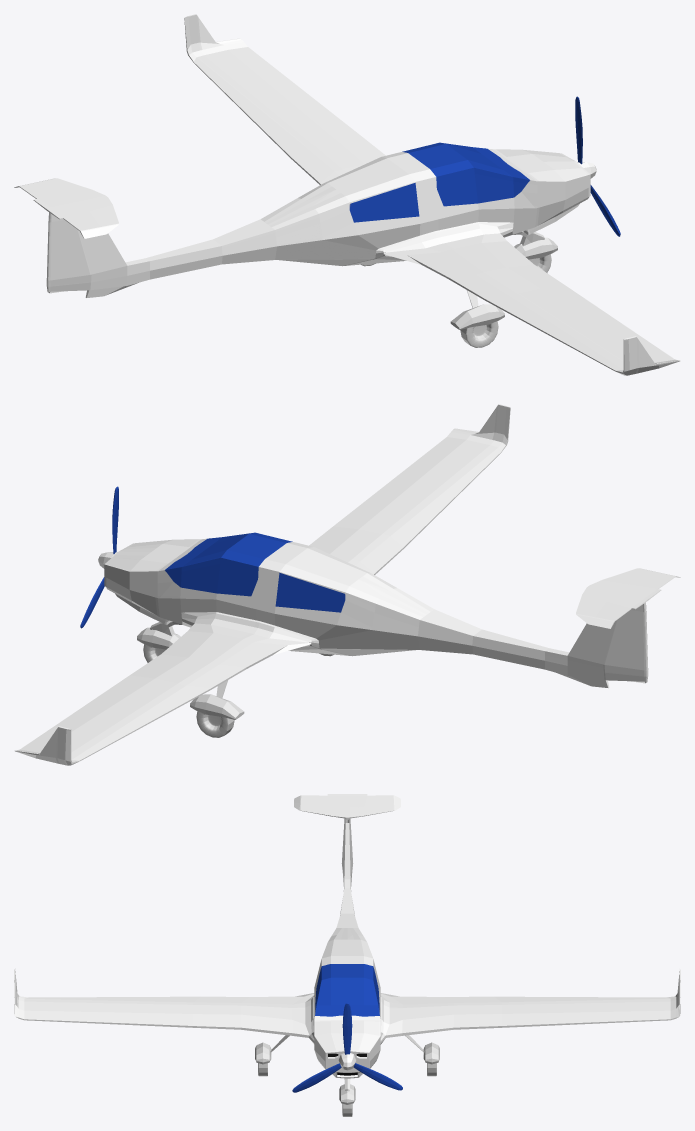
Rendered from airplane07b.fbx.
3 views of the same model, one above another, from view 1: azimuth 30°, elevation 25°; view 2: azimuth 150°, elevation 25°; view 3: azimuth 270°, elevation 25° (orthographic). The views are drawn at different scales.
Visible parts, largest first — view 1: Cube.007, Cube.005, Cube.003, Cube.006; view 2: Cube.007, Cube.005, Cube.003, Cube.006; view 3: Cube.007, Cube.006, Cube.005.
Boxes of the visible parts, box(x1,y1,x2,y2) form: Cube.007: box(14, 14, 680, 375); Cube.005: box(450, 231, 557, 329); Cube.003: box(361, 254, 551, 347); Cube.006: box(575, 96, 620, 236); Cube.007: box(14, 404, 680, 765); Cube.005: box(137, 621, 244, 719); Cube.003: box(143, 644, 333, 737); Cube.006: box(80, 486, 118, 628); Cube.007: box(14, 794, 680, 1078); Cube.006: box(292, 1003, 402, 1092); Cube.005: box(255, 1035, 439, 1104).
Size of the model in its own units: 1281 by 418 by 1779.
2 materials, 2 textured.
